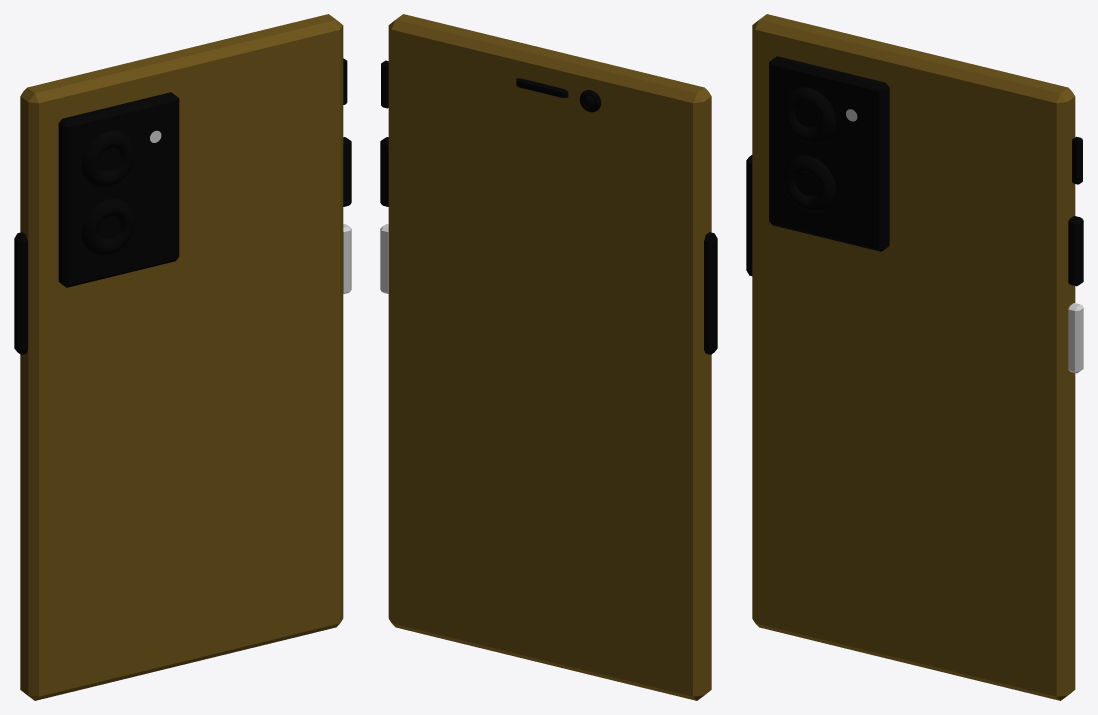
The model's file is iphonemodel.obj.
The picture shows the model from 3 angles, left to right: view 1: azimuth 30°, elevation 25°; view 2: azimuth 150°, elevation 25°; view 3: azimuth 330°, elevation 25°; orthographic projection.
Visible parts, largest first — view 1: pCube1, pCube8, pTorus2, pTorus3, pCube4, pCube5, pCube2; view 2: pCube1, pCube4, pCube5, pCube2; view 3: pCube1, pCube8, pTorus2, pTorus3, pCube2, pCube5, pCube4.
Boxes of the visible parts, <box> form: pCube1: <box>20,14,343,700</box>; pCube8: <box>58,92,179,287</box>; pTorus2: <box>81,130,134,187</box>; pTorus3: <box>81,198,134,255</box>; pCube4: <box>14,232,27,354</box>; pCube5: <box>343,224,351,293</box>; pCube2: <box>343,137,351,206</box>; pCube1: <box>388,14,711,700</box>; pCube4: <box>704,232,717,354</box>; pCube5: <box>380,224,388,293</box>; pCube2: <box>380,137,388,206</box>; pCube1: <box>752,14,1075,700</box>; pCube8: <box>769,56,889,251</box>; pTorus2: <box>783,87,835,143</box>; pTorus3: <box>783,155,835,211</box>; pCube2: <box>1068,216,1083,286</box>; pCube5: <box>1068,303,1083,373</box>; pCube4: <box>746,155,752,275</box>.
Size of the model in its own units: 6.37 by 11.07 by 1.06.
